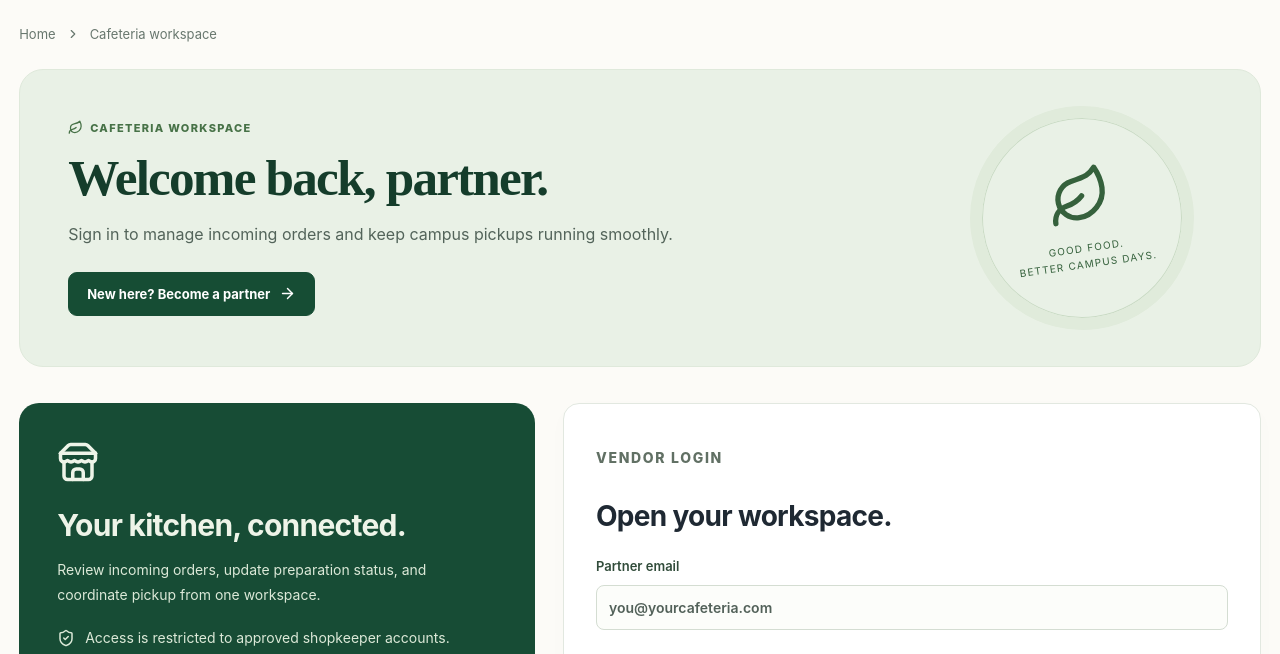
vendor access flows › keeps the form available after rejected credentials
Type "partner@example.test" into the field labelled "Partner email" at (912, 607), box [596,585,1228,630]
(page scrolled)
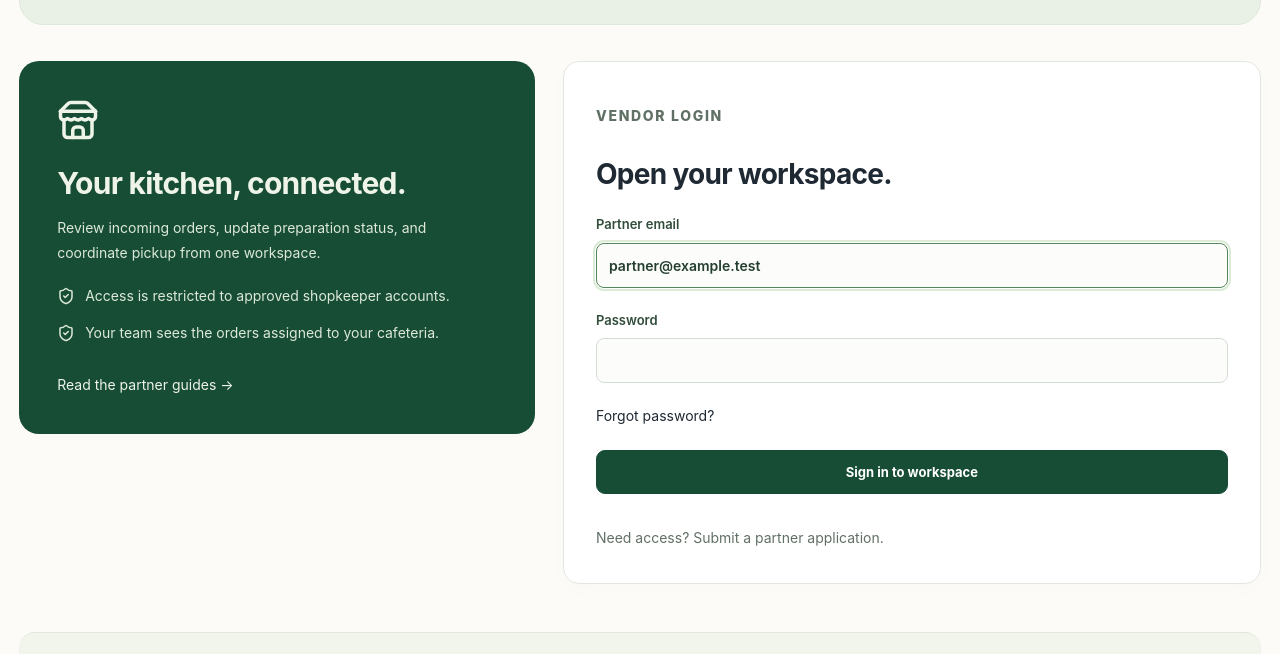
Type "wrong-password" into the password field labelled "Password" at (912, 361), box [596,338,1228,384]
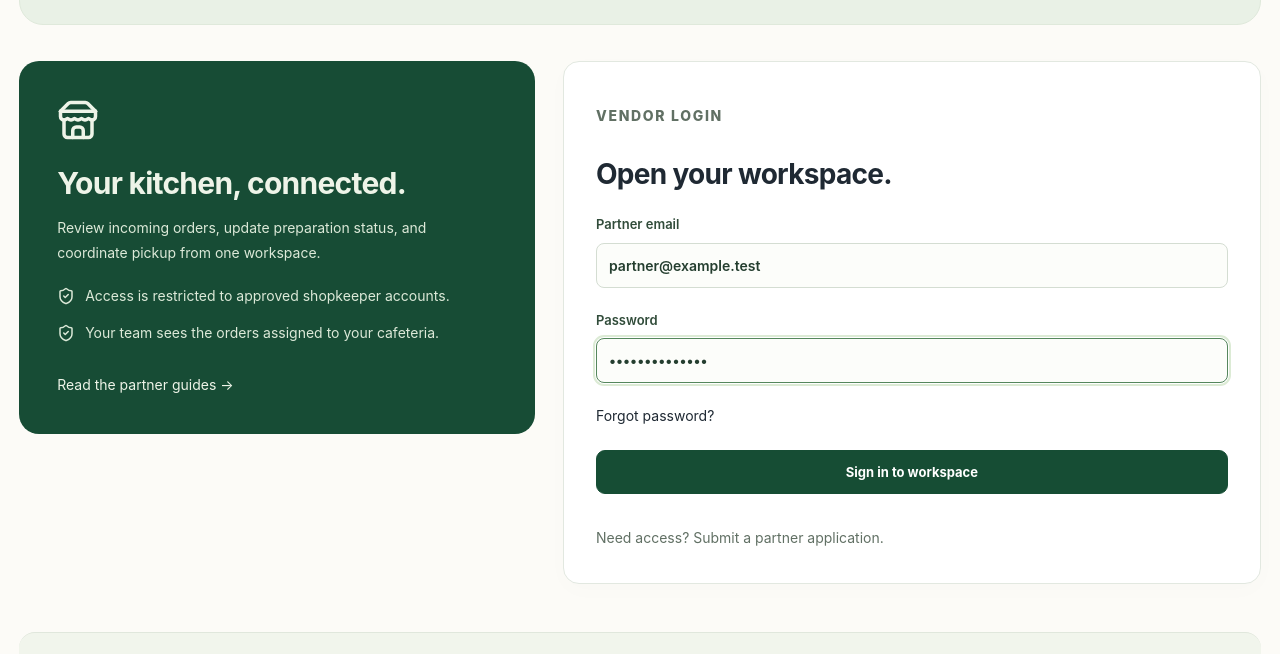
Click the button "Sign in to workspace" at (912, 472), box [596,450,1228,494]
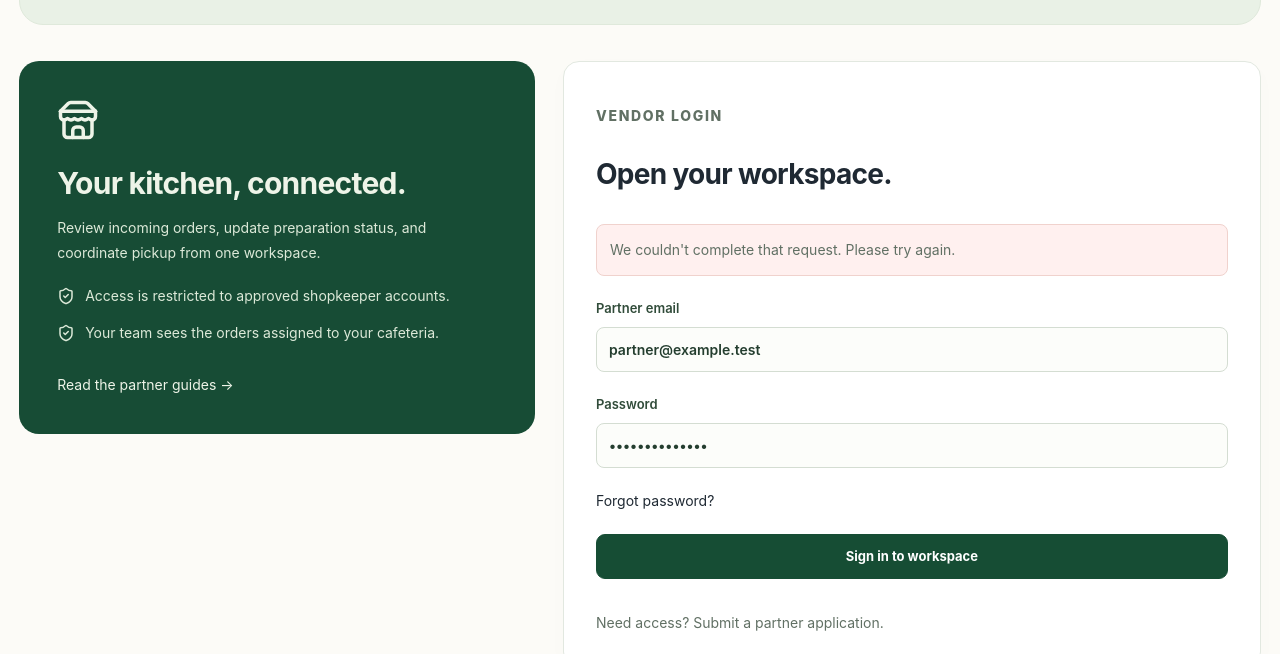
Expected: the button "Sign in to workspace" is enabled, [596,534,1228,579]
Result: the message shows "Please try again" at [610,241,955,258]
